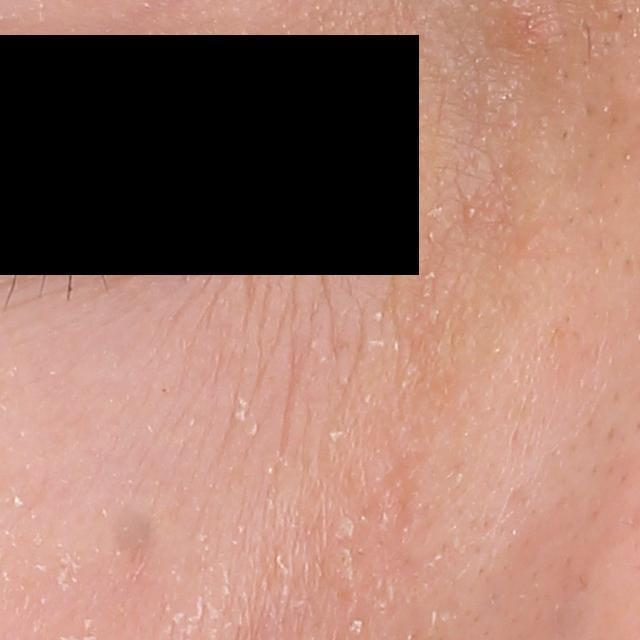comedo: (461, 202, 480, 220)
